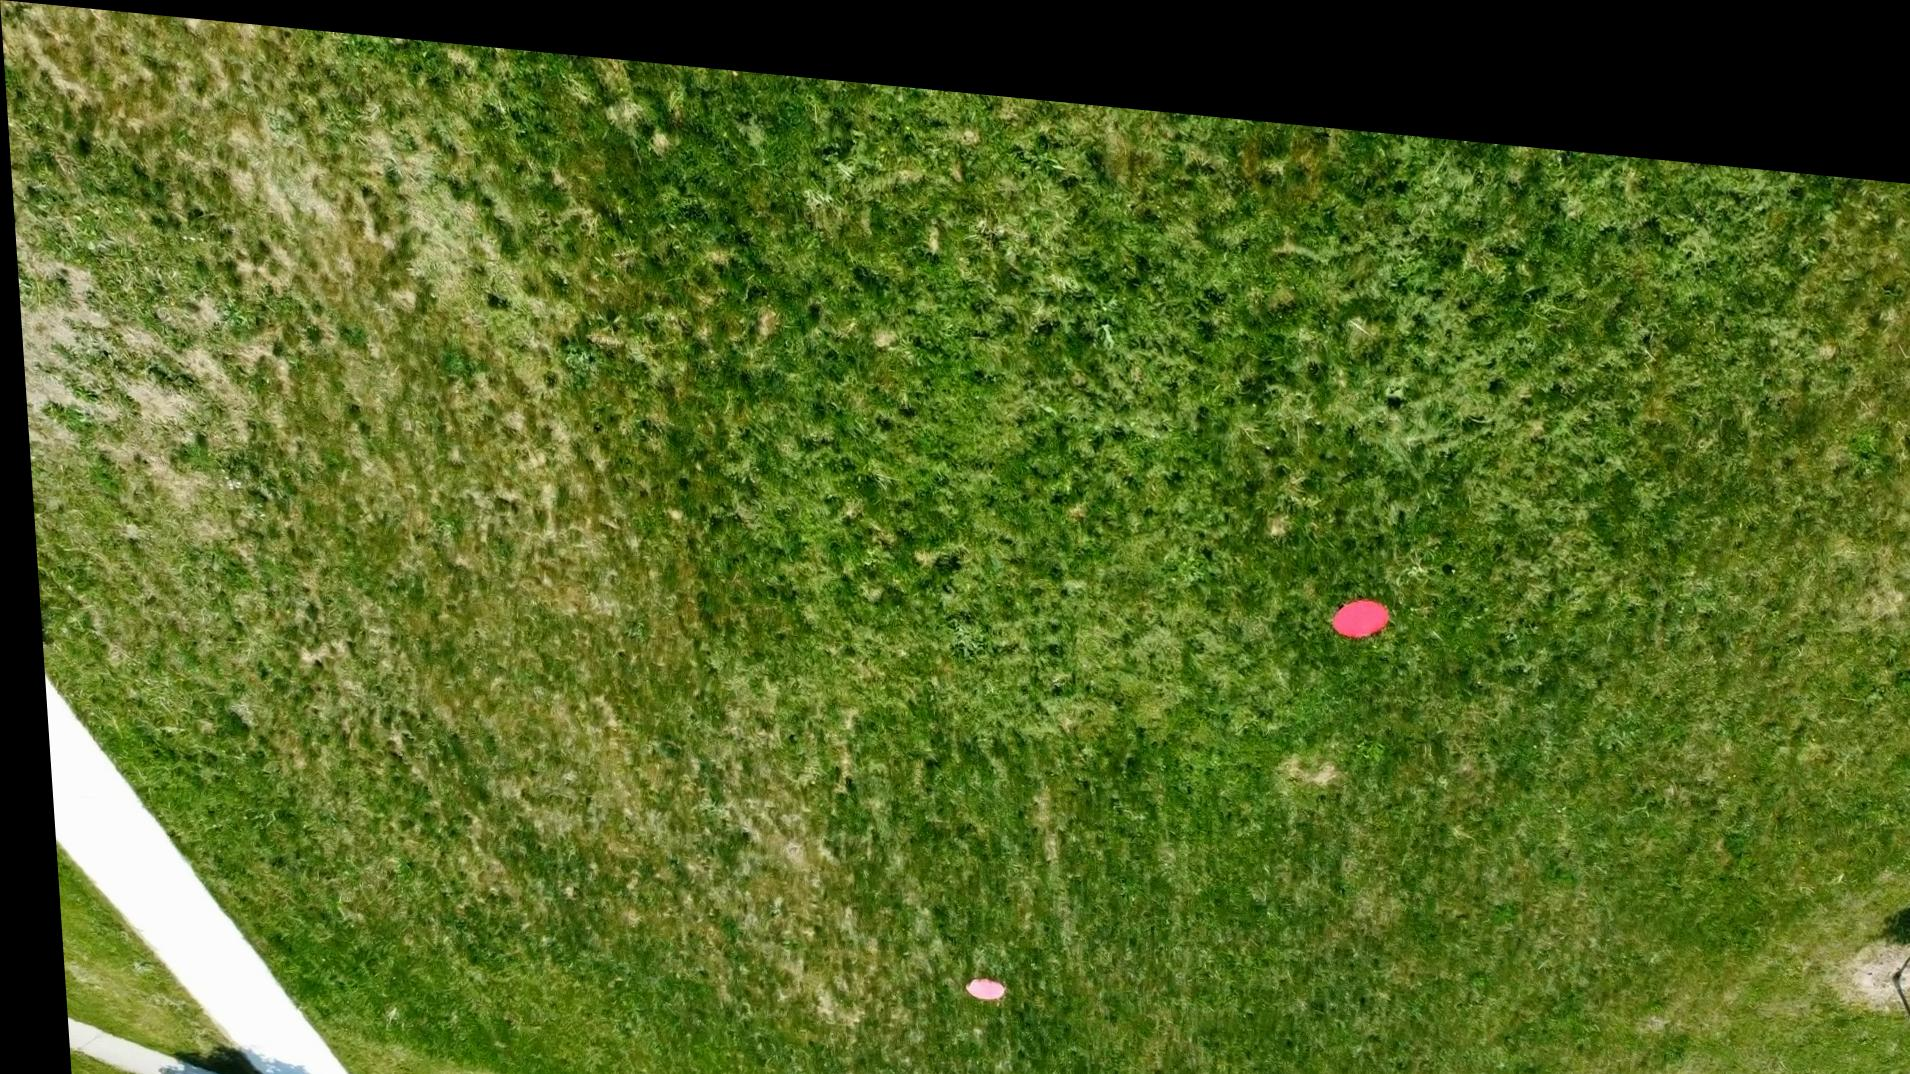Red: (1321, 567, 1387, 619), (952, 957, 996, 984)
